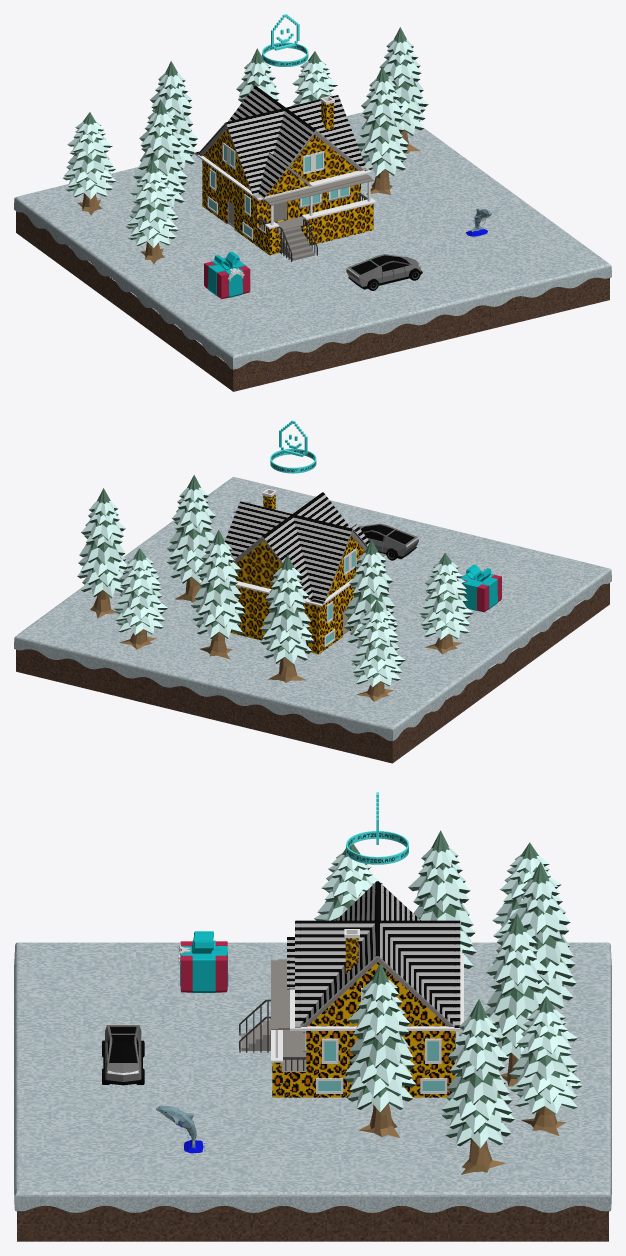
3 renders of one model, top to bottom at view 1: azimuth 30°, elevation 25°; view 2: azimuth 150°, elevation 25°; view 3: azimuth 270°, elevation 25°, orthographic. The views are drawn at different scales.
Parts seen in each view (by area): view 1: Cube.003, Cube.637, VEHICLES_CYBERTRUCK, OBJRANDOM_GIANT_PRESENT, TYPE_PREMIUM; view 2: Cube.003, Cube.637, OBJRANDOM_GIANT_PRESENT, VEHICLES_CYBERTRUCK, TYPE_PREMIUM; view 3: Cube.003, Cube.637, OBJRANDOM_GIANT_PRESENT, VEHICLES_CYBERTRUCK, TYPE_PREMIUM, ANIMAL_DELFIN.
Boxes of the visible parts, x1,y1,x2,y2 form: Cube.003: (14,27,611,391); Cube.637: (194,85,376,261); VEHICLES_CYBERTRUCK: (346,254,422,290); OBJRANDOM_GIANT_PRESENT: (204,251,250,299); TYPE_PREMIUM: (262,14,308,66); Cube.003: (14,475,611,763); Cube.637: (225,489,388,654); OBJRANDOM_GIANT_PRESENT: (461,564,501,612); VEHICLES_CYBERTRUCK: (358,523,418,560); TYPE_PREMIUM: (270,420,316,473); Cube.003: (14,830,611,1241); Cube.637: (239,881,463,1097); OBJRANDOM_GIANT_PRESENT: (178,931,228,992); VEHICLES_CYBERTRUCK: (102,1024,144,1085); TYPE_PREMIUM: (346,792,408,864); ANIMAL_DELFIN: (156,1105,205,1153).
Size of the model in its own units: 4040 by 2475 by 4040.
29 materials, 5 textured.
